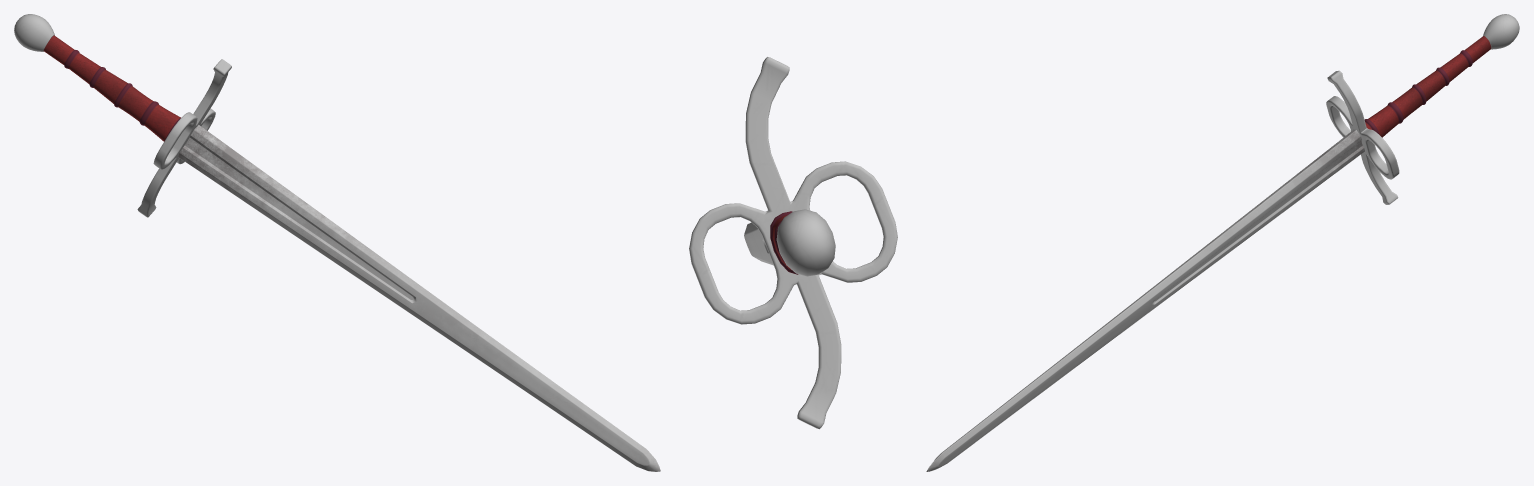
Rendered from Sword3.fbx.
3 renders of one model, left to right at view 1: azimuth 30°, elevation 25°; view 2: azimuth 150°, elevation 25°; view 3: azimuth 270°, elevation 25°, orthographic. The views are drawn at different scales.
Visible parts, largest first — view 1: Cube.013, Cube.012, Cube.014, Cube.017; view 2: Cube.014, Cube.017, Cube.013, Cube.012; view 3: Cube.013, Cube.014, Cube.012, Cube.017.
Boxes of the visible parts, x1,y1,x2,y2 form: Cube.013: (178,125,660,471); Cube.012: (43,35,180,141); Cube.014: (137,59,231,217); Cube.017: (14,14,54,51); Cube.014: (689,57,897,429); Cube.017: (776,209,835,276); Cube.013: (744,222,773,265); Cube.012: (770,211,798,274); Cube.013: (926,129,1364,471); Cube.014: (1326,70,1399,204); Cube.012: (1364,36,1491,137); Cube.017: (1483,14,1519,49).
Bounding box in the file's own units: 63.88 × 56.49 × 99.85.
Materials: 1 (1 with a texture image).
